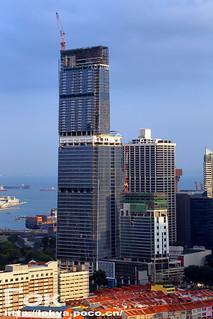building: (55, 44, 125, 268), (125, 137, 180, 270)
